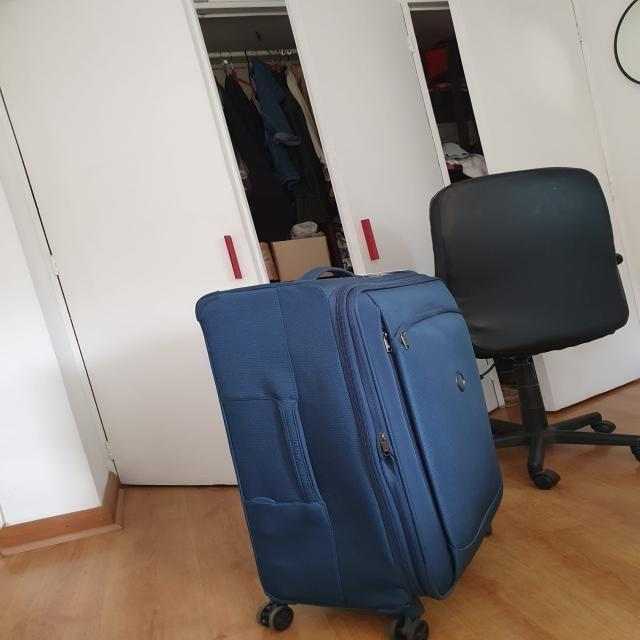Suitcase: (199, 265, 508, 640)
